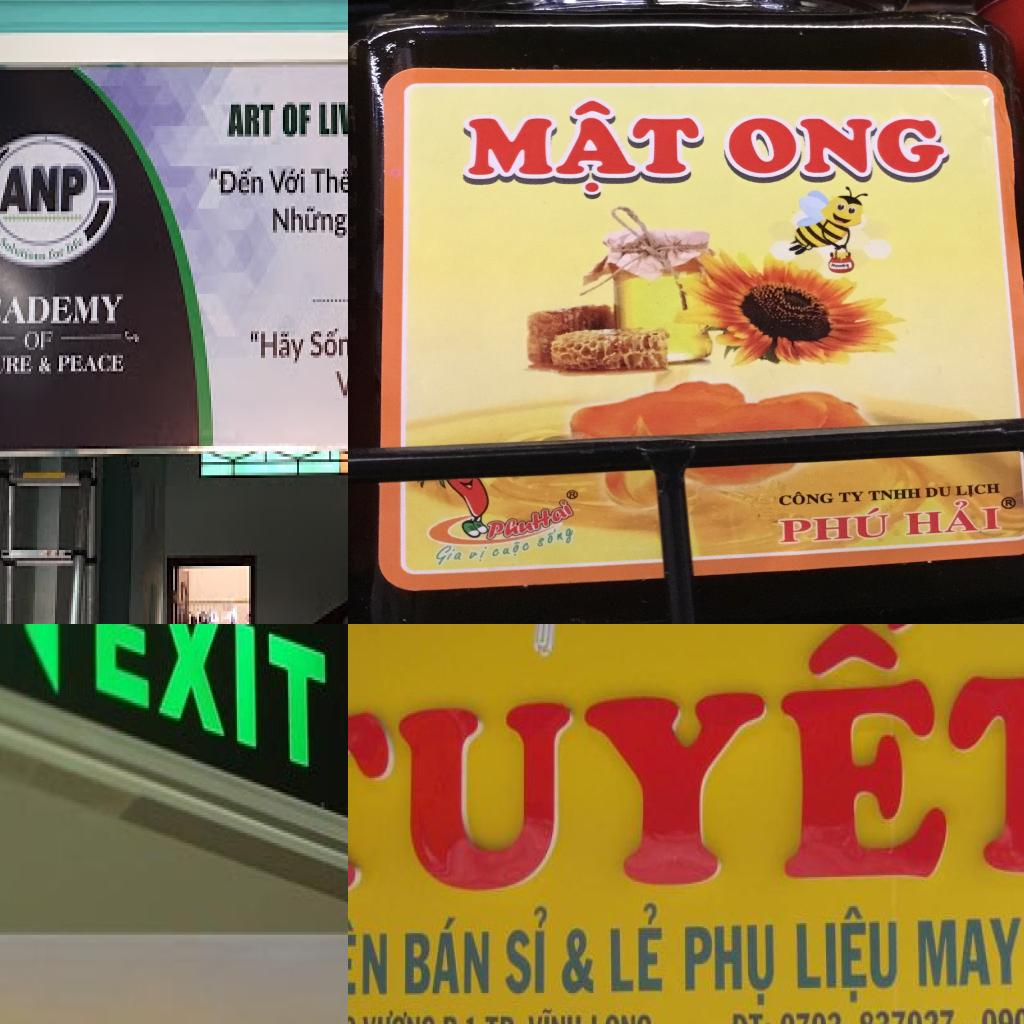text: (348, 624, 1024, 900), (824, 20, 910, 191), (792, 899, 902, 1007), (680, 918, 779, 1010), (914, 913, 1024, 993), (400, 918, 492, 996), (0, 286, 129, 334), (0, 155, 93, 219), (608, 896, 668, 994), (501, 901, 552, 996), (267, 198, 348, 248), (348, 156, 398, 231), (348, 917, 389, 1001), (778, 1005, 957, 1024), (348, 61, 387, 146), (241, 321, 305, 371), (561, 926, 596, 996), (207, 158, 265, 198), (53, 350, 125, 382), (219, 99, 279, 137), (265, 158, 311, 201), (619, 350, 667, 391), (277, 100, 317, 148), (305, 325, 348, 363), (313, 94, 348, 136), (305, 158, 348, 192), (900, 356, 940, 387), (361, 1008, 436, 1024), (587, 1008, 658, 1024), (0, 352, 33, 384), (327, 363, 348, 413), (526, 1006, 584, 1024), (387, 61, 409, 104), (17, 331, 57, 353), (439, 1006, 481, 1024), (398, 194, 418, 229), (394, 128, 410, 170), (730, 1011, 775, 1024), (482, 1011, 526, 1024), (392, 106, 408, 126), (398, 172, 414, 192), (384, 231, 396, 239), (961, 1020, 977, 1024)
